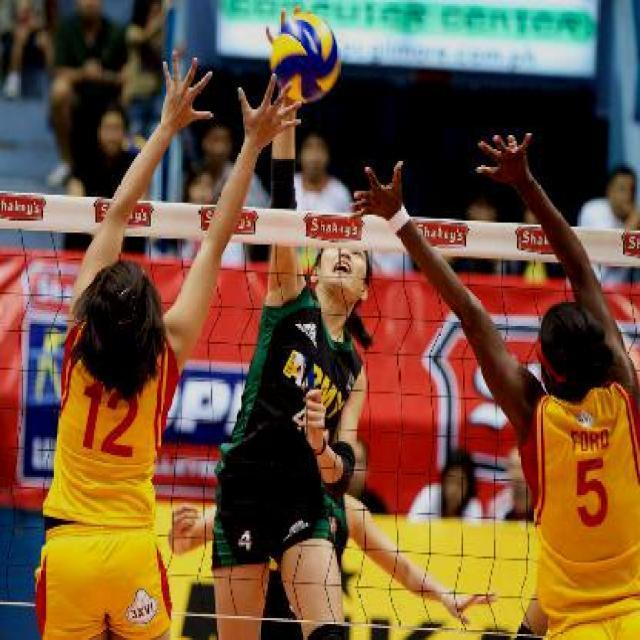volleyball: (269, 13, 339, 102)
